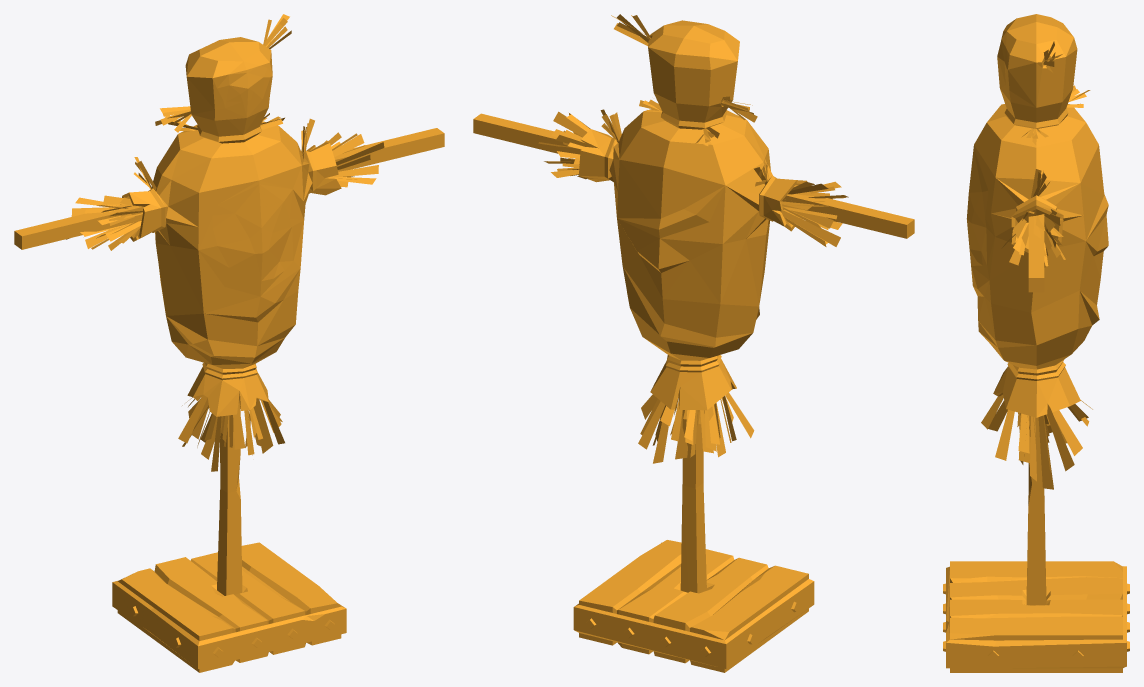
Rendered from SM_Training_Dummy_A_Fantasy.fbx.
3 renders of one model, left to right at view 1: azimuth 30°, elevation 25°; view 2: azimuth 150°, elevation 25°; view 3: azimuth 270°, elevation 25°, orthographic. The views are drawn at different scales.
Parts seen in each view (by area): view 1: training-dummy-a-fantasy; view 2: training-dummy-a-fantasy; view 3: training-dummy-a-fantasy.
Part boxes in pixels (left/top/right/bottom): training-dummy-a-fantasy: left=14, top=14, right=444, bottom=672; training-dummy-a-fantasy: left=473, top=14, right=914, bottom=672; training-dummy-a-fantasy: left=943, top=14, right=1129, bottom=672.
Size of the model in its own units: 1.29 by 1.72 by 0.4686.
